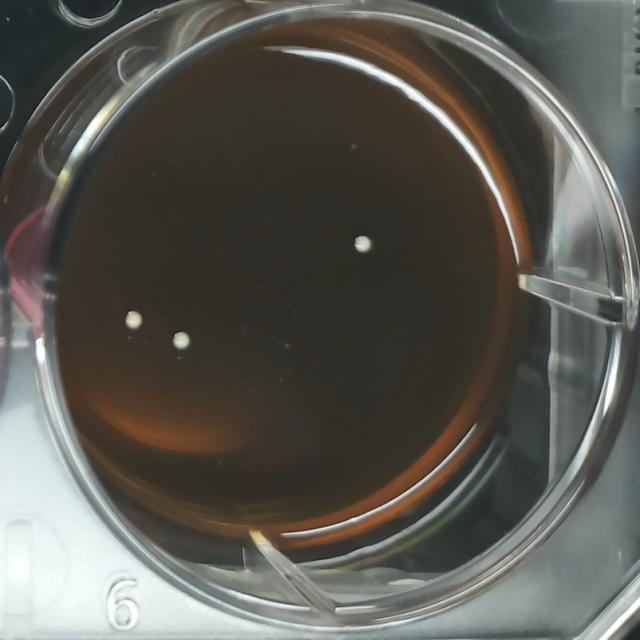Staphylococcus: (351, 230, 375, 258), (169, 328, 192, 355), (123, 307, 145, 334)
